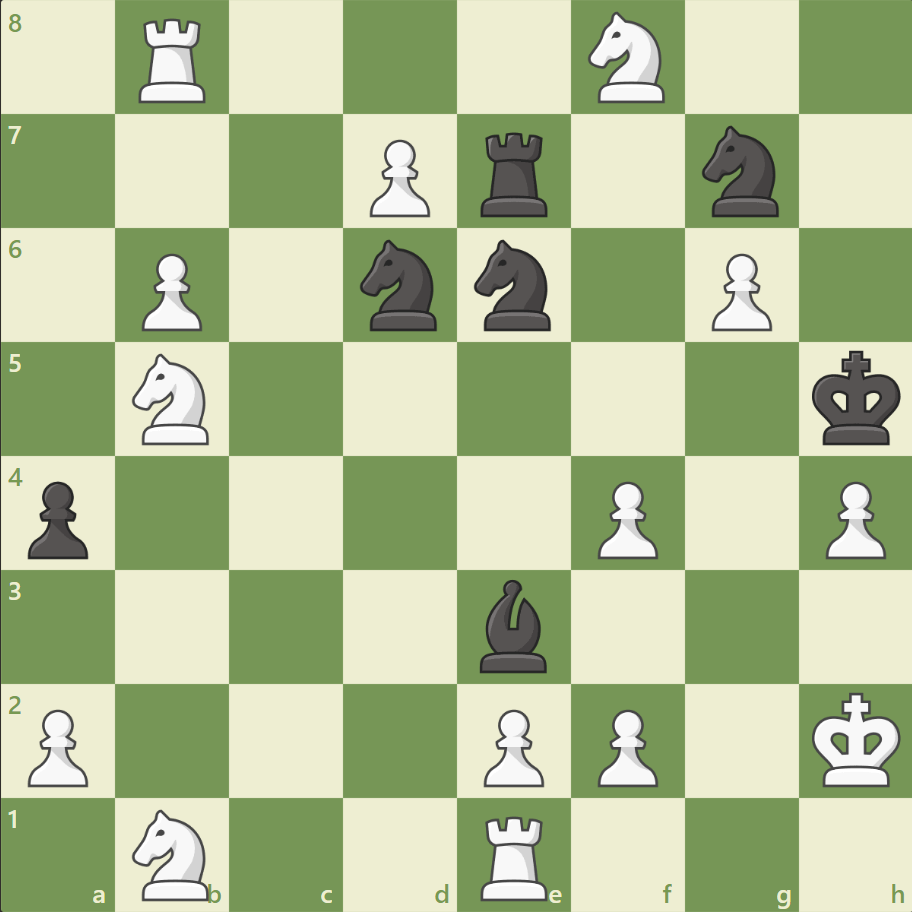K: (806, 685, 906, 793)
N: (124, 348, 222, 450), (124, 802, 222, 904), (579, 7, 676, 110)
P: (133, 246, 208, 337), (701, 246, 776, 337), (20, 700, 95, 791), (474, 700, 549, 791), (361, 132, 435, 223), (588, 473, 662, 564), (815, 473, 889, 564), (588, 700, 662, 791)
R: (473, 806, 556, 904), (133, 12, 215, 109)
b: (471, 574, 555, 676)
k: (806, 344, 906, 452)
n: (351, 234, 449, 337), (465, 234, 562, 337), (692, 121, 789, 223)
p: (20, 473, 95, 564)
r: (473, 125, 556, 222)
